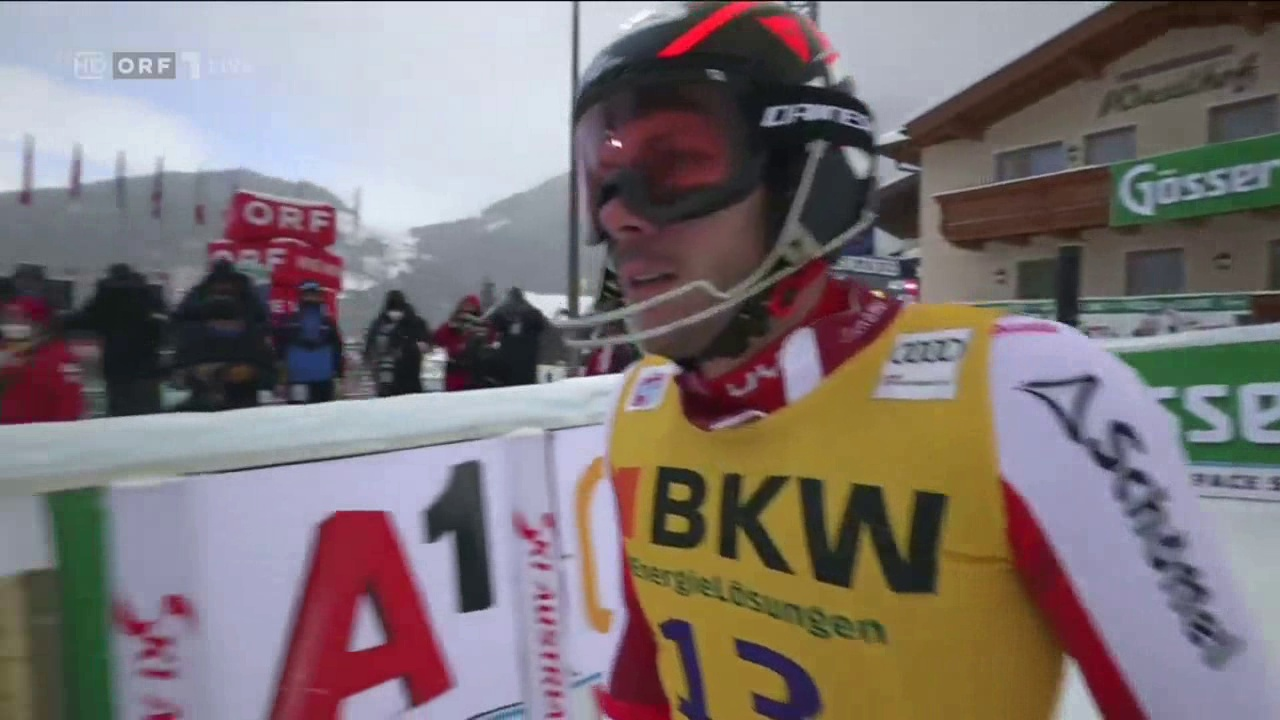a1: (286, 465, 516, 681)
audi: (881, 333, 970, 373)
goesser: (1125, 140, 1279, 220)
